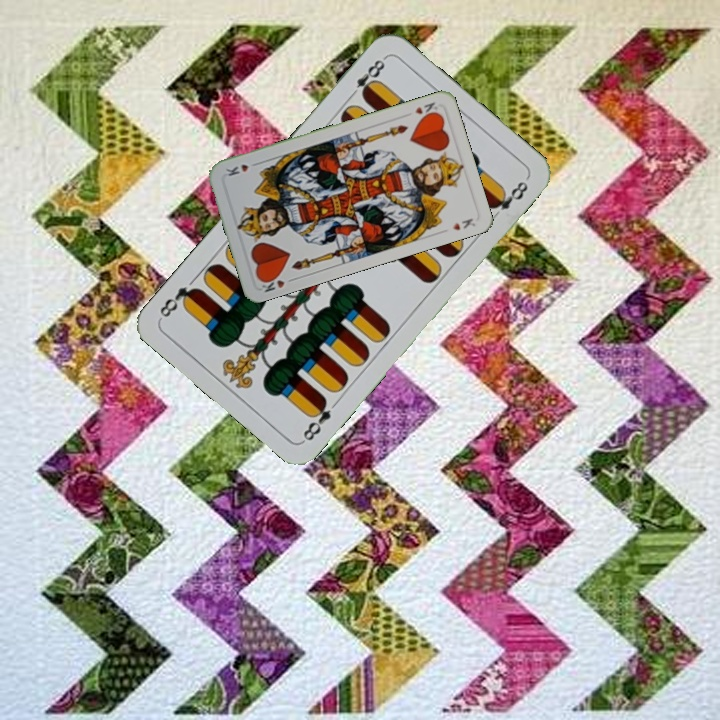E8: (344, 53, 389, 101), (298, 393, 334, 445)
HK: (257, 271, 297, 295), (411, 98, 442, 121)
